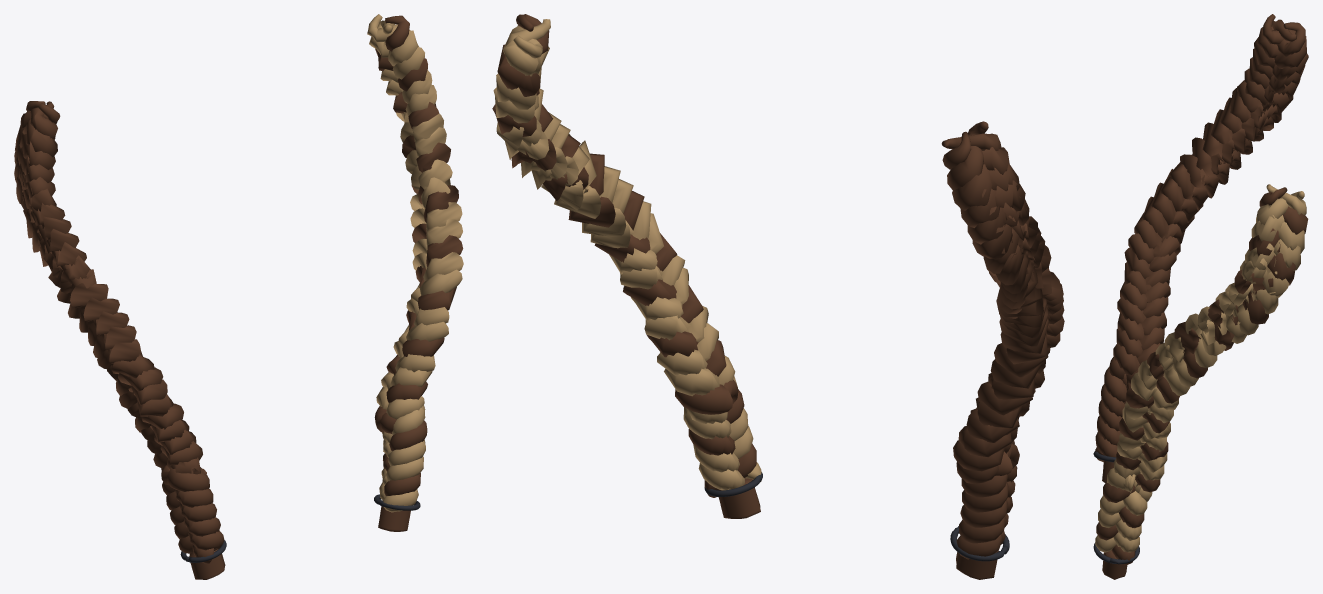
File: Highlights-c4ea44f2038e251-hair.glb
3 renders of one model, left to right at view 1: azimuth 30°, elevation 25°; view 2: azimuth 150°, elevation 25°; view 3: azimuth 270°, elevation 25°, orthographic. The views are drawn at different scales.
Parts seen in each view (by area): view 1: 226 hairLengths / Hair / chestnut226, 226 hairLengths / Hair / ties226; view 2: 226 hairLengths / Hair / chestnut226, 226 hairLengths / Hair / ties226; view 3: 226 hairLengths / Hair / chestnut226, 226 hairLengths / Hair / ties226.
Boxes of the visible parts, left/top/right/bottom form: 226 hairLengths / Hair / chestnut226: left=14, top=14, right=463, bottom=579; 226 hairLengths / Hair / ties226: left=180, top=494, right=420, bottom=562; 226 hairLengths / Hair / chestnut226: left=492, top=14, right=1064, bottom=579; 226 hairLengths / Hair / ties226: left=704, top=472, right=1009, bottom=561; 226 hairLengths / Hair / chestnut226: left=1095, top=14, right=1308, bottom=579; 226 hairLengths / Hair / ties226: left=1093, top=451, right=1139, bottom=564.
Bounding box in the file's own units: 1.03 × 1.06 × 0.4794.
